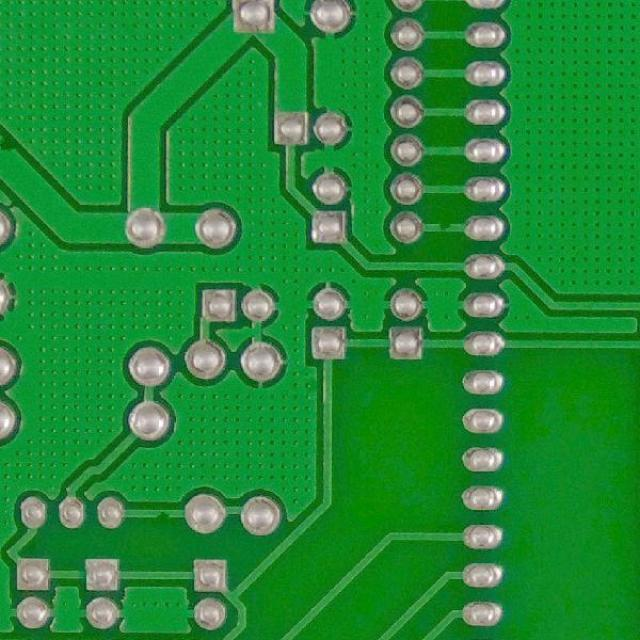MouseBite: (0, 130, 20, 167), (150, 508, 175, 522), (434, 218, 455, 234)
